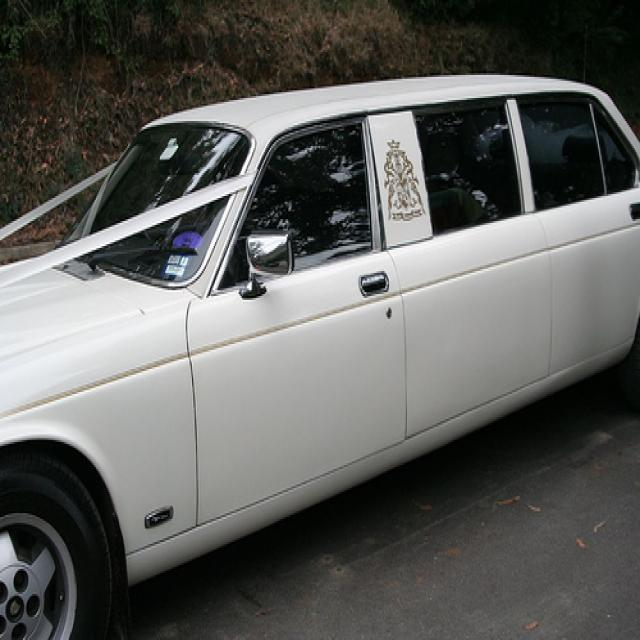car: (1, 72, 640, 639)
